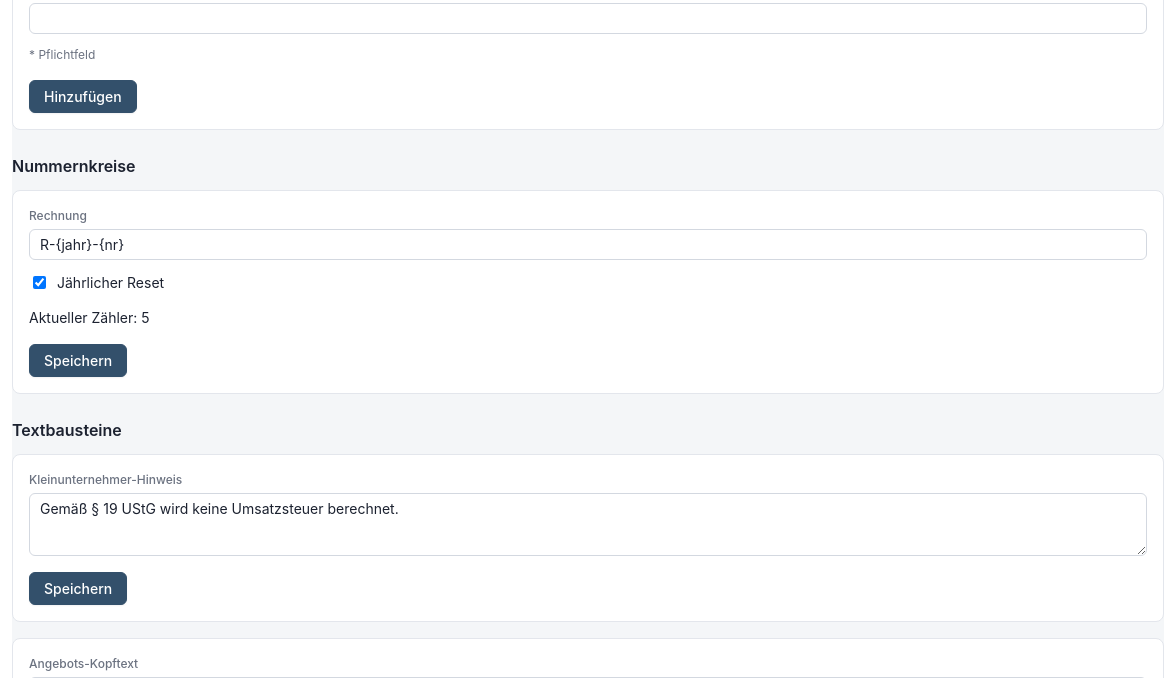
Test case: Einstellungen › zeigt nach dem Speichern eines Nummernkreises einen Erfolgs-Hinweis
(page scrolled)
Expected: the field showing "R-{jahr}-{nr}" is shown, [29,229,1147,260]
Index 1: Firmendaten (0) steht im DOM vor dem einzigen Nummernkreis-Eintrag (1).
Click the button "Speichern" below "Aktueller Zähler:" at (78, 360), box [29,344,127,377]
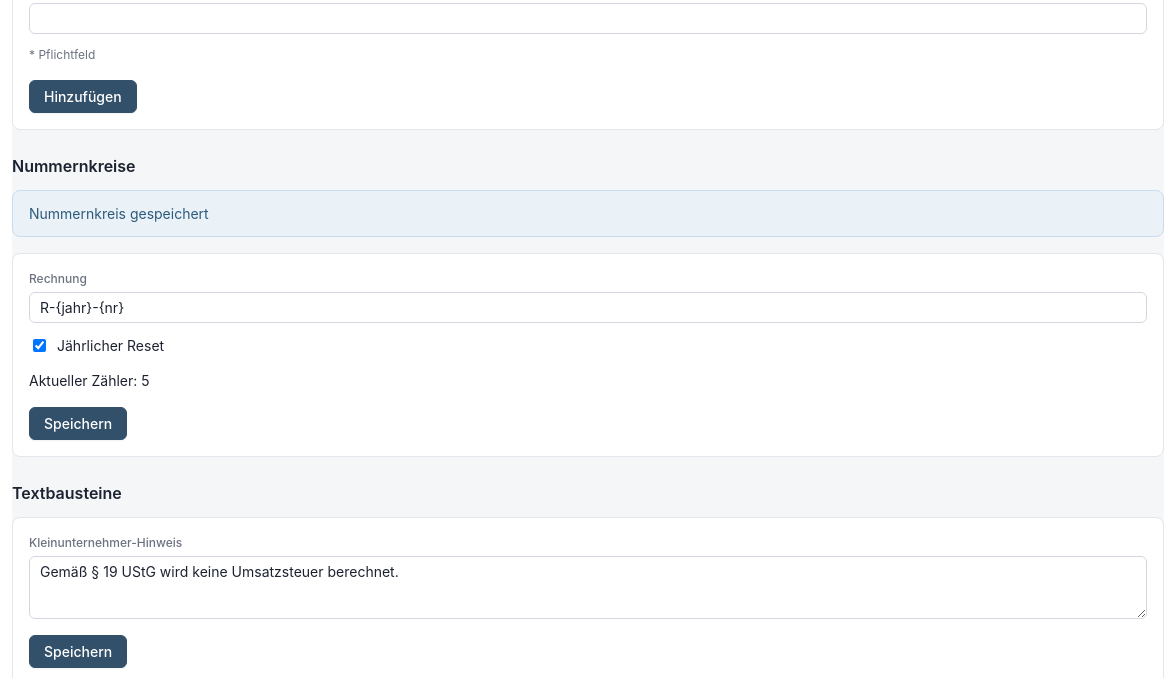
Expected: the text "Nummernkreis gespeichert" is shown, [29,203,209,224]
